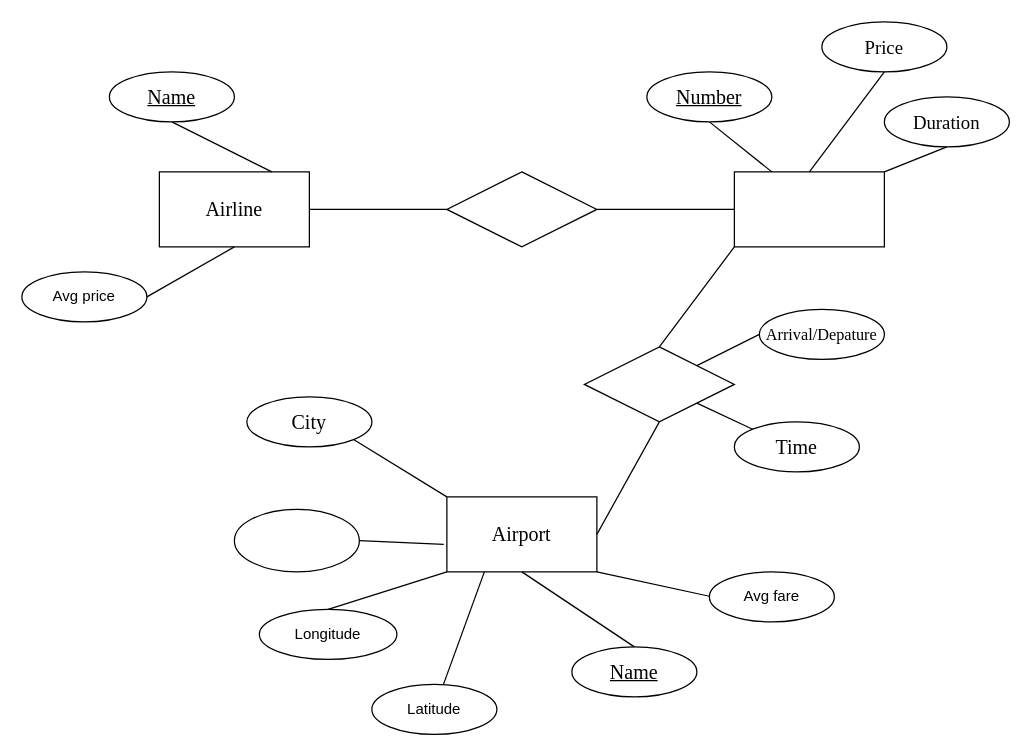
This 1031x756 diagram has some shape labels left out. The centre of each missing label's shape, as x and y in pixels:
"Belong to" goes at point (521, 209).
"Flight" goes at point (808, 209).
"Large/small" goes at point (296, 540).
"Stop" goes at point (658, 384).
